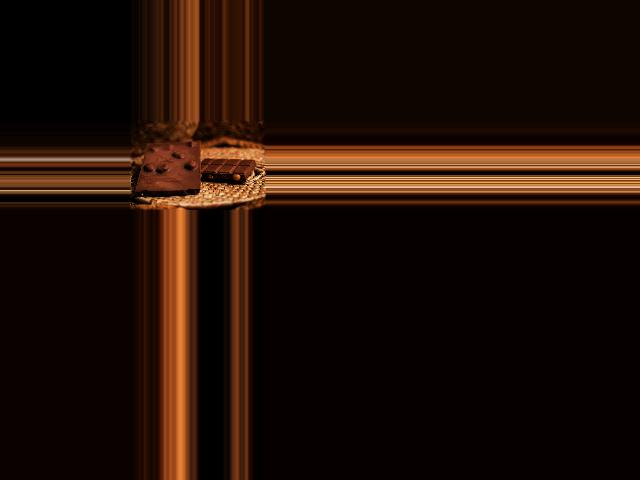chocolate: (134, 139, 204, 196)
